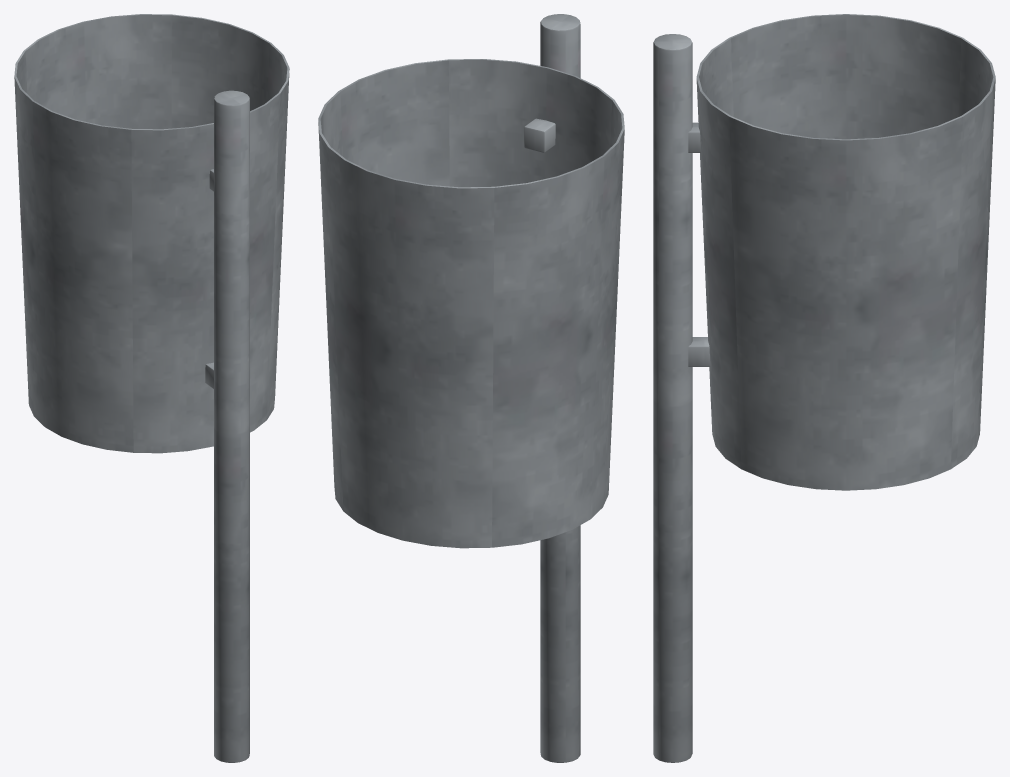
Rendered from PAV-MOB-002_lod1.glb.
3 renders of one model, left to right at view 1: azimuth 30°, elevation 25°; view 2: azimuth 150°, elevation 25°; view 3: azimuth 270°, elevation 25°, orthographic. The views are drawn at different scales.
Parts seen in each view (by area): view 1: PAV-MOB-002_cesto, PAV-MOB-002_poste; view 2: PAV-MOB-002_cesto, PAV-MOB-002_poste, PAV-MOB-002_braco85; view 3: PAV-MOB-002_cesto, PAV-MOB-002_poste, PAV-MOB-002_braco55.
Boxes of the visible parts, <box> form: PAV-MOB-002_cesto: <box>14,14,289,453</box>; PAV-MOB-002_poste: <box>214,90,249,762</box>; PAV-MOB-002_cesto: <box>318,59,624,548</box>; PAV-MOB-002_poste: <box>540,14,580,762</box>; PAV-MOB-002_braco85: <box>524,118,555,152</box>; PAV-MOB-002_cesto: <box>696,14,995,490</box>; PAV-MOB-002_poste: <box>653,34,692,762</box>; PAV-MOB-002_braco55: <box>688,337,710,366</box>.
Bounding box in the file's own units: 0.38 × 1 × 0.435.
1 material, 1 textured.
